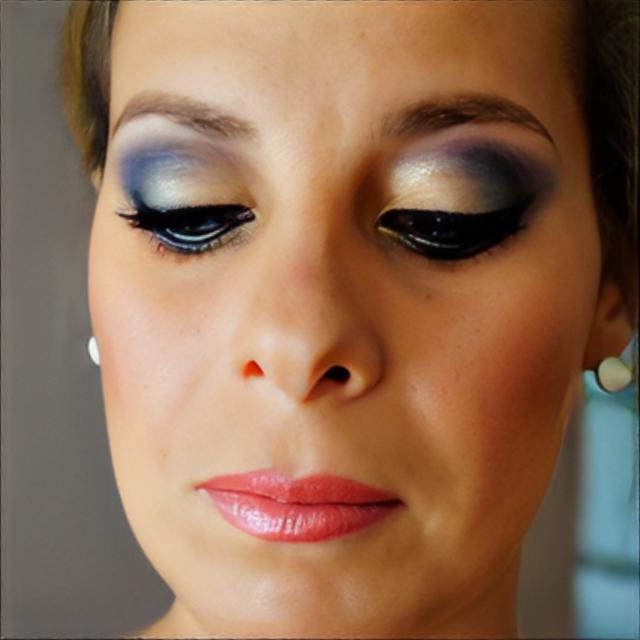sad: (87, 1, 590, 618)
